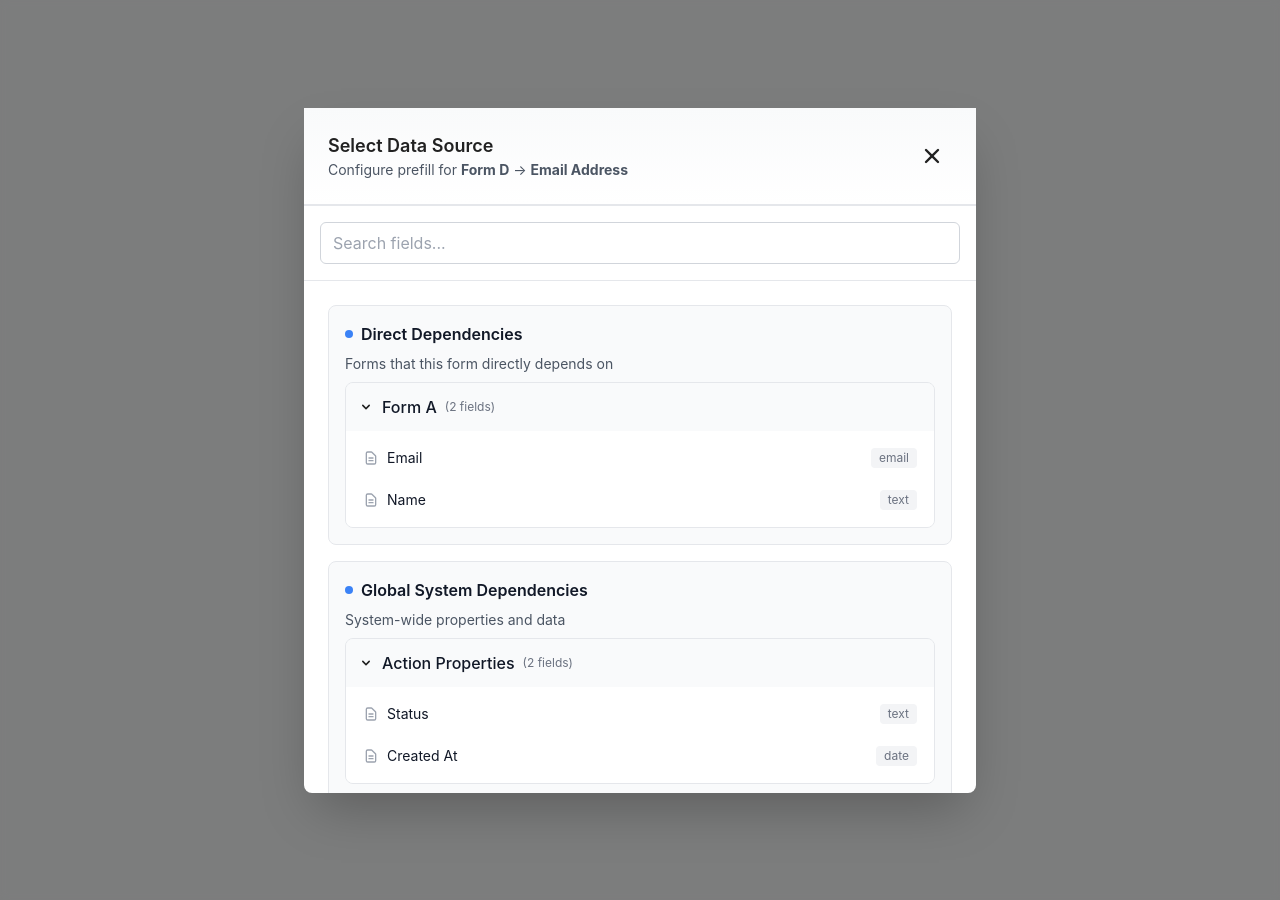
it: DataSourceModal › shows confirmation dialog when field types mismatch
# Click the "Name" field which is type 'text', should trigger confirmation
Click the text "Name". click: click(406, 500)
box: [387,490,426,510]
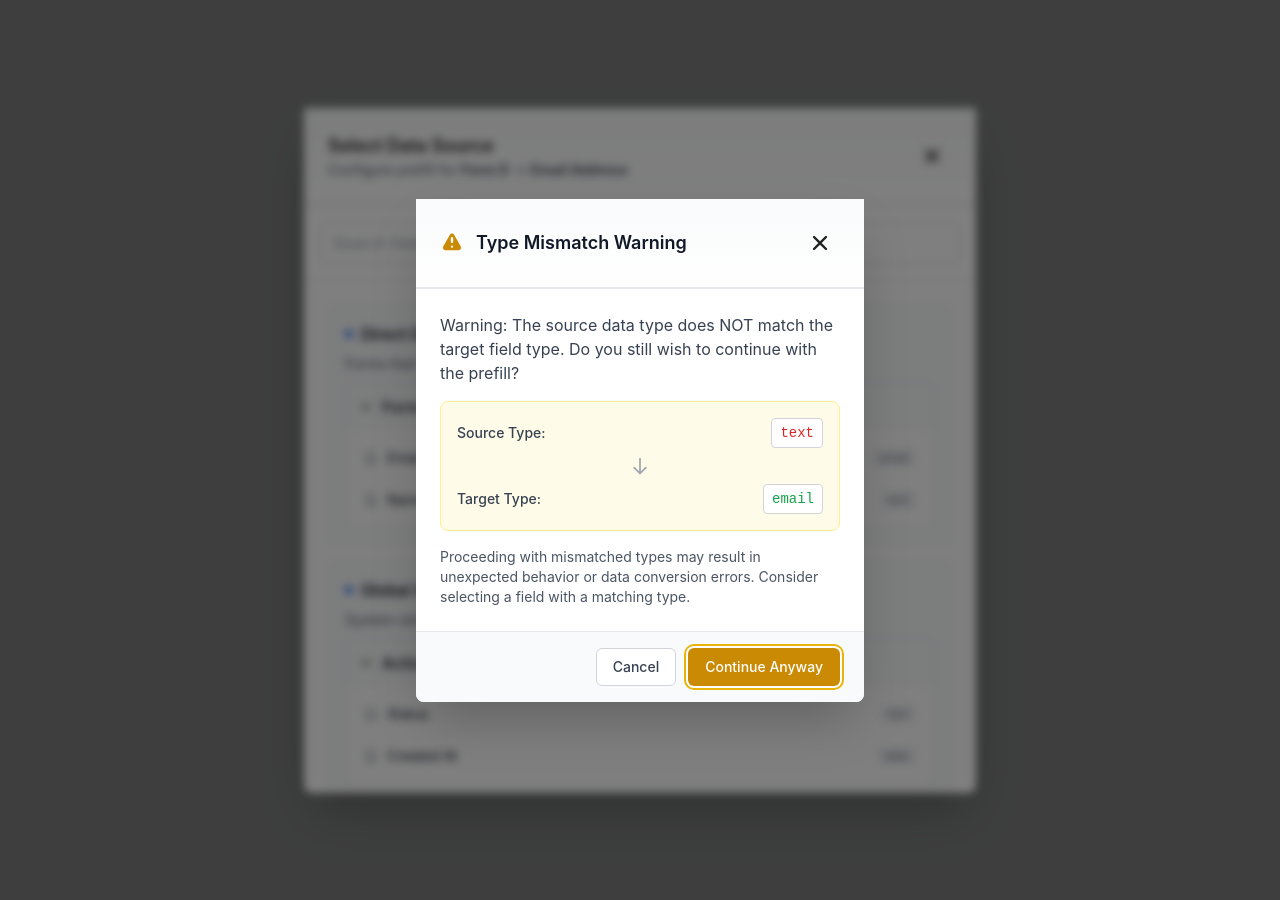
Check: the heading "Type Mismatch Warning" is shown, box [476,228,687,256]
Check: the text "Warning: The source data type does NOT match" is shown, box [440,314,833,382]
